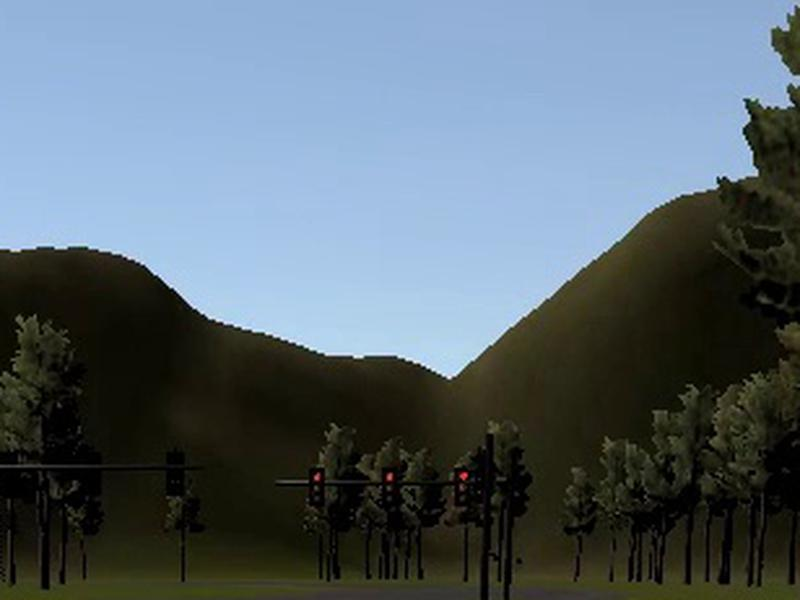Red: (381, 466, 398, 508), (454, 467, 471, 504), (310, 470, 326, 508)
